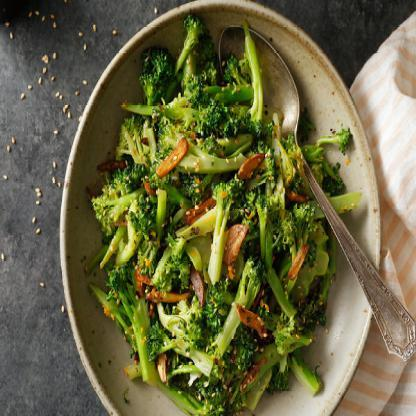broccoli: (89, 15, 362, 416)
